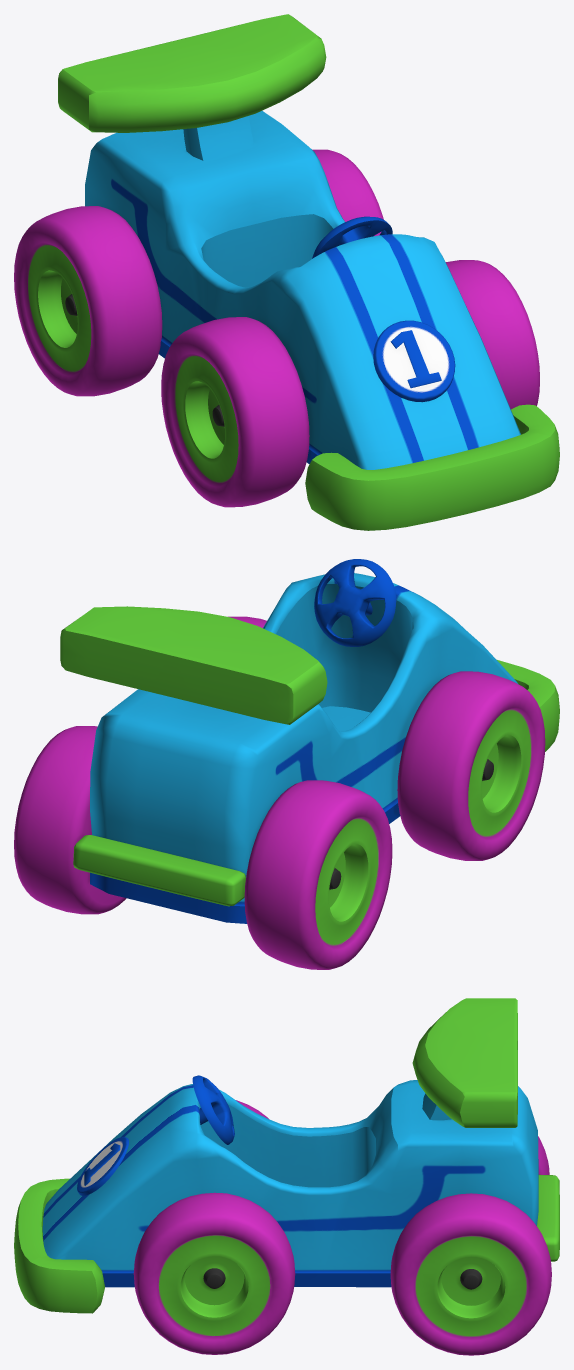
The model's file is car.obj.
3 renders of one model, top to bottom at view 1: azimuth 30°, elevation 25°; view 2: azimuth 150°, elevation 25°; view 3: azimuth 270°, elevation 25°, orthographic. The views are drawn at different scales.
Parts seen in each view (by area): view 1: obj1; view 2: obj1; view 3: obj1.
Part boxes in pixels (bbox=[...]): obj1: bbox=[14, 14, 559, 530]; obj1: bbox=[14, 559, 559, 969]; obj1: bbox=[14, 998, 559, 1355].
Bounding box in the file's own units: 0.109 × 0.1041 × 0.2013.
1 material, 1 textured.
